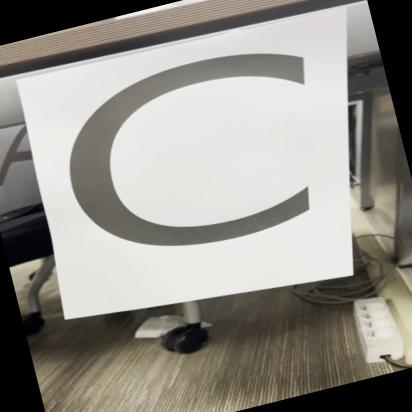seat: (24, 3, 374, 336)
